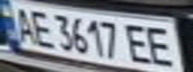1: (84, 16, 106, 56)
3: (48, 11, 75, 53)
6: (66, 15, 87, 55)
7: (100, 18, 124, 60)
A: (6, 2, 39, 45)
E: (142, 22, 187, 70), (121, 21, 154, 64), (24, 6, 57, 48)
